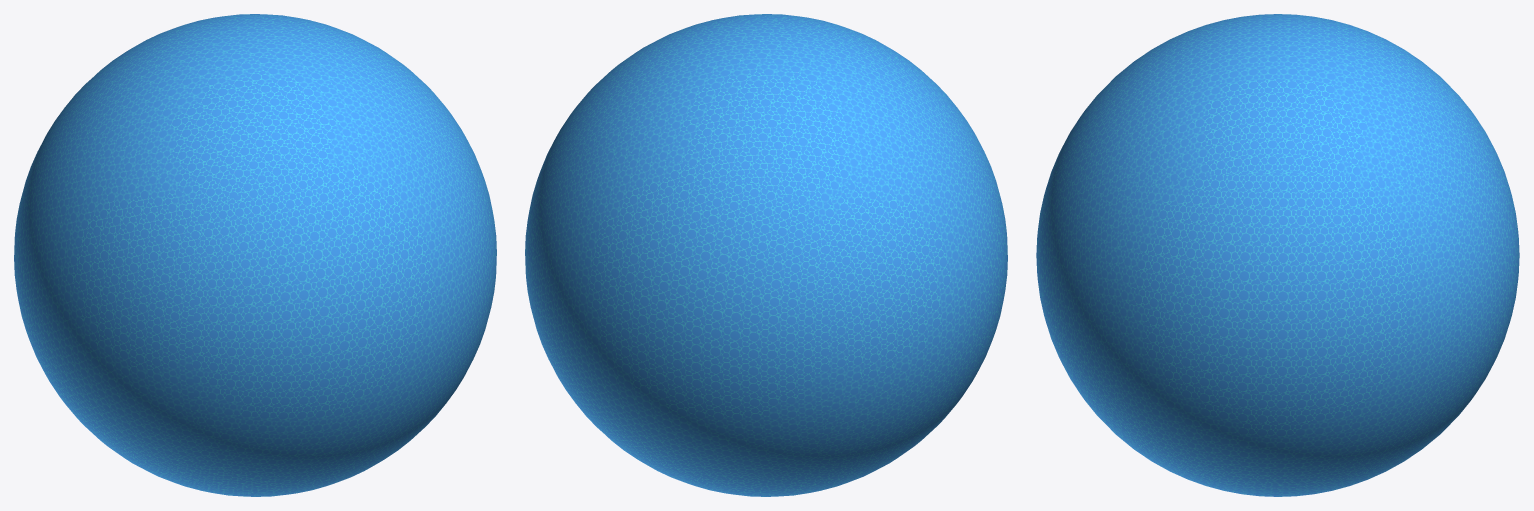
File: planet_water_30units.fbx
3 renders of one model, left to right at view 1: azimuth 30°, elevation 25°; view 2: azimuth 150°, elevation 25°; view 3: azimuth 270°, elevation 25°, orthographic.
Visible parts, largest first — view 1: planet_water_30units; view 2: planet_water_30units; view 3: planet_water_30units.
Part boxes in pixels (x1=…): planet_water_30units: x1=14, y1=14, x2=496, y2=496; planet_water_30units: x1=525, y1=14, x2=1007, y2=496; planet_water_30units: x1=1036, y1=14, x2=1519, y2=496.
Size of the model in its own units: 30 by 30 by 30.
